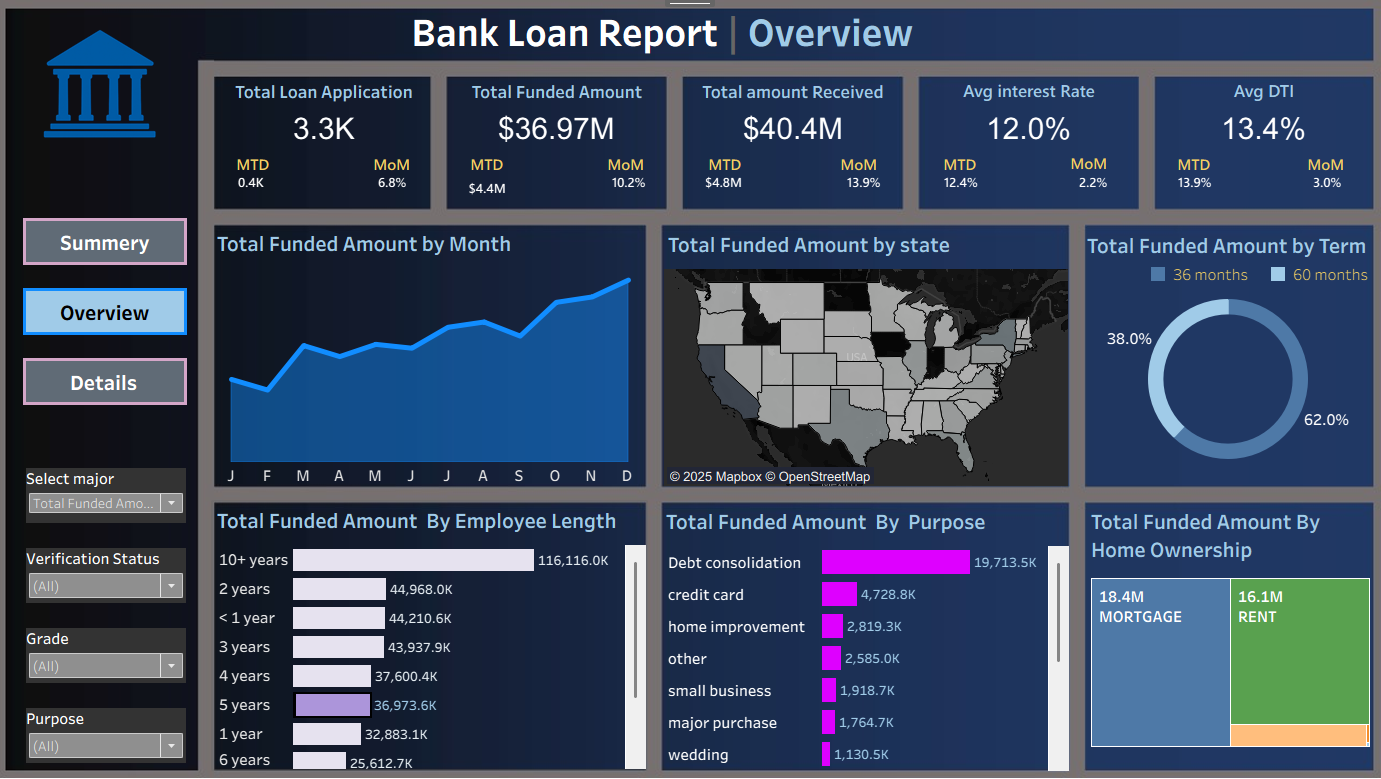

Layout of this report page (visuals, bound fields, positions):
{"tool":"tableau","page":{"name":"Overview","canvas":[1000,1000],"units":"permille","ordinal":1},"visuals":[{"type":"image","param":"Image/Tableau Background 2.jpg","box":[5,10,990,980]},{"type":"text","box":[323.8,18.7,331.2,68.6]},{"type":"image","param":"Image/ChatGPT Image Oct 29, 2025, 01_03_14 PM.png","box":[70,22.4,121.9,230.7]},{"type":"worksheet","title":"Total Loan Application","mark":"Automatic","box":[202.5,108.5,137.5,87.3]},{"type":"worksheet","title":"Total Funded Amount","mark":"Automatic","box":[348.1,108.5,137.5,87.3]},{"type":"worksheet","title":"Total amount Received","mark":"Automatic","box":[495.6,108.5,137.5,87.3]},{"type":"worksheet","title":"Avg interest Rate","mark":"Automatic","box":[643.1,108.5,137.5,87.3]},{"type":"worksheet","title":"Avg DTI","mark":"Automatic","box":[790,108.5,137.5,87.3]},{"type":"text","box":[214.4,204.5,27.5,28.7]},{"type":"text","box":[300,204.5,27.5,28.7]},{"type":"text","box":[360.6,204.5,27.5,28.7]},{"type":"text","box":[446.2,204.5,27.5,28.7]},{"type":"text","box":[509.4,204.5,27.5,28.7]},{"type":"text","box":[591.9,204.5,27.5,28.7]},{"type":"text","box":[656.2,204.5,27.5,28.7]},{"type":"text","box":[735.6,204.5,27.5,26.2]},{"type":"text","box":[802.5,204.5,27.5,28.7]},{"type":"text","box":[883.8,204.5,27.5,28.7]},{"type":"worksheet","title":"MTD Total Laon Application","mark":"Automatic","box":[208.8,228.2,34.4,28.7]},{"type":"worksheet","title":"MoM  Laon Application","mark":"Automatic","box":[296.9,228.2,34.4,28.7]},{"type":"worksheet","title":"MoM  Total Funded Amount","mark":"Automatic","box":[445,228.2,34.4,28.7]},{"type":"worksheet","title":"MTD Total Amount Recievd","mark":"Automatic","box":[504.4,228.2,34.4,28.7]},{"type":"worksheet","title":"MoM Total Amount recieved","mark":"Automatic","box":[591.9,228.2,34.4,28.7]},{"type":"worksheet","title":"MTD Avg Interest Rate","mark":"Automatic","box":[652.5,228.2,34.4,28.7]},{"type":"worksheet","title":"MoM Avg int Rate","mark":"Automatic","box":[735,228.2,34.4,28.7]},{"type":"worksheet","title":"MTD Avg DTI","mark":"Automatic","box":[798.8,228.2,34.4,28.7]},{"type":"worksheet","title":"MoM Avg DTI","mark":"Automatic","box":[881.2,228.2,34.4,28.7]},{"type":"worksheet","title":"MTD Total Funded Ammount","mark":"Automatic","box":[355,235.7,34.4,28.7]},{"type":"dashboard-object","box":[83.1,286.8,102.5,58.6]},{"type":"worksheet","title":"Month","mark":"Area","rows":["Calculation_871728002999152649","Calculation_871728002999152649"],"cols":["issue_date"],"box":[201.9,295.5,270.6,326.7]},{"type":"worksheet","title":"State","mark":"Multipolygon","box":[483.8,296.8,252.5,324.2]},{"type":"worksheet","title":"Term","mark":"Pie","rows":["Calculation_871728003009540107","Calculation_871728003009540107"],"box":[745.6,298,181.2,325.4]},{"type":"legend","title":"Term","param":"[federated.1wn1w61167jnc519fe91r04a9m42].[none:term:nk]","box":[786.2,344.1,152.5,29.9]},{"type":"dashboard-object","box":[83.1,374.1,102.5,58.6]},{"type":"dashboard-object","box":[83.1,461.4,102.5,58.6]},{"type":"parameter","param":"[Parameters].[Parameter 1]","box":[85,598.5,100,68.6]},{"type":"worksheet","title":"Emp Lenght","mark":"Automatic","rows":["emp_length"],"cols":["Calculation_871728002999152649"],"box":[201.9,640.9,270.6,332.9]},{"type":"worksheet","title":"Loan Purpose","mark":"Automatic","rows":["purpose"],"cols":["Calculation_871728002999152649"],"box":[482.5,642.1,254.4,334.2]},{"type":"worksheet","title":"Home ownership","mark":"Automatic","box":[748.1,642.1,178.8,334.2]},{"type":"filter","title":"Avg DTI","param":"[federated.1wn1w61167jnc519fe91r04a9m42].[none:verification_status:nk]","box":[85,698.2,100,68.6]},{"type":"filter","title":"Avg DTI","param":"[federated.1wn1w61167jnc519fe91r04a9m42].[none:grade:nk]","box":[85,798,100,68.6]},{"type":"filter","title":"Avg DTI","param":"[federated.1wn1w61167jnc519fe91r04a9m42].[none:purpose:nk]","box":[85,897.8,100,68.6]}]}

Visuals, with their boxes on the dashboard's canvas, which has no fixed pixel size, in thousandths of its width and height (x1, y1, x2, y2). These are canvas units, not pixel positions in the 1381x779 screenshot, which may show the page scaled, cropped or inside an application window:
image: [x1=5, y1=10, x2=995, y2=990]
text: [x1=324, y1=19, x2=655, y2=87]
image: [x1=70, y1=22, x2=192, y2=253]
"Total Loan Application" worksheet: [x1=202, y1=108, x2=340, y2=196]
"Total Funded Amount" worksheet: [x1=348, y1=108, x2=486, y2=196]
"Total amount Received" worksheet: [x1=496, y1=108, x2=633, y2=196]
"Avg interest Rate" worksheet: [x1=643, y1=108, x2=781, y2=196]
"Avg DTI" worksheet: [x1=790, y1=108, x2=928, y2=196]
text: [x1=214, y1=204, x2=242, y2=233]
text: [x1=300, y1=204, x2=328, y2=233]
text: [x1=361, y1=204, x2=388, y2=233]
text: [x1=446, y1=204, x2=474, y2=233]
text: [x1=509, y1=204, x2=537, y2=233]
text: [x1=592, y1=204, x2=619, y2=233]
text: [x1=656, y1=204, x2=684, y2=233]
text: [x1=736, y1=204, x2=763, y2=231]
text: [x1=802, y1=204, x2=830, y2=233]
text: [x1=884, y1=204, x2=911, y2=233]
"MTD Total Laon Application" worksheet: [x1=209, y1=228, x2=243, y2=257]
"MoM  Laon Application" worksheet: [x1=297, y1=228, x2=331, y2=257]
"MoM  Total Funded Amount" worksheet: [x1=445, y1=228, x2=479, y2=257]
"MTD Total Amount Recievd" worksheet: [x1=504, y1=228, x2=539, y2=257]
"MoM Total Amount recieved" worksheet: [x1=592, y1=228, x2=626, y2=257]
"MTD Avg Interest Rate" worksheet: [x1=652, y1=228, x2=687, y2=257]
"MoM Avg int Rate" worksheet: [x1=735, y1=228, x2=769, y2=257]
"MTD Avg DTI" worksheet: [x1=799, y1=228, x2=833, y2=257]
"MoM Avg DTI" worksheet: [x1=881, y1=228, x2=916, y2=257]
"MTD Total Funded Ammount" worksheet: [x1=355, y1=236, x2=389, y2=264]
dashboard-object: [x1=83, y1=287, x2=186, y2=345]
"Month" worksheet (Area marks): [x1=202, y1=296, x2=472, y2=622]
"State" worksheet (Multipolygon marks): [x1=484, y1=297, x2=736, y2=621]
"Term" worksheet (Pie marks): [x1=746, y1=298, x2=927, y2=623]
"Term" legend: [x1=786, y1=344, x2=939, y2=374]
dashboard-object: [x1=83, y1=374, x2=186, y2=433]
dashboard-object: [x1=83, y1=461, x2=186, y2=520]
parameter: [x1=85, y1=598, x2=185, y2=667]
"Emp Lenght" worksheet: [x1=202, y1=641, x2=472, y2=974]
"Loan Purpose" worksheet: [x1=482, y1=642, x2=737, y2=976]
"Home ownership" worksheet: [x1=748, y1=642, x2=927, y2=976]
"Avg DTI" filter: [x1=85, y1=698, x2=185, y2=767]
"Avg DTI" filter: [x1=85, y1=798, x2=185, y2=867]
"Avg DTI" filter: [x1=85, y1=898, x2=185, y2=966]
